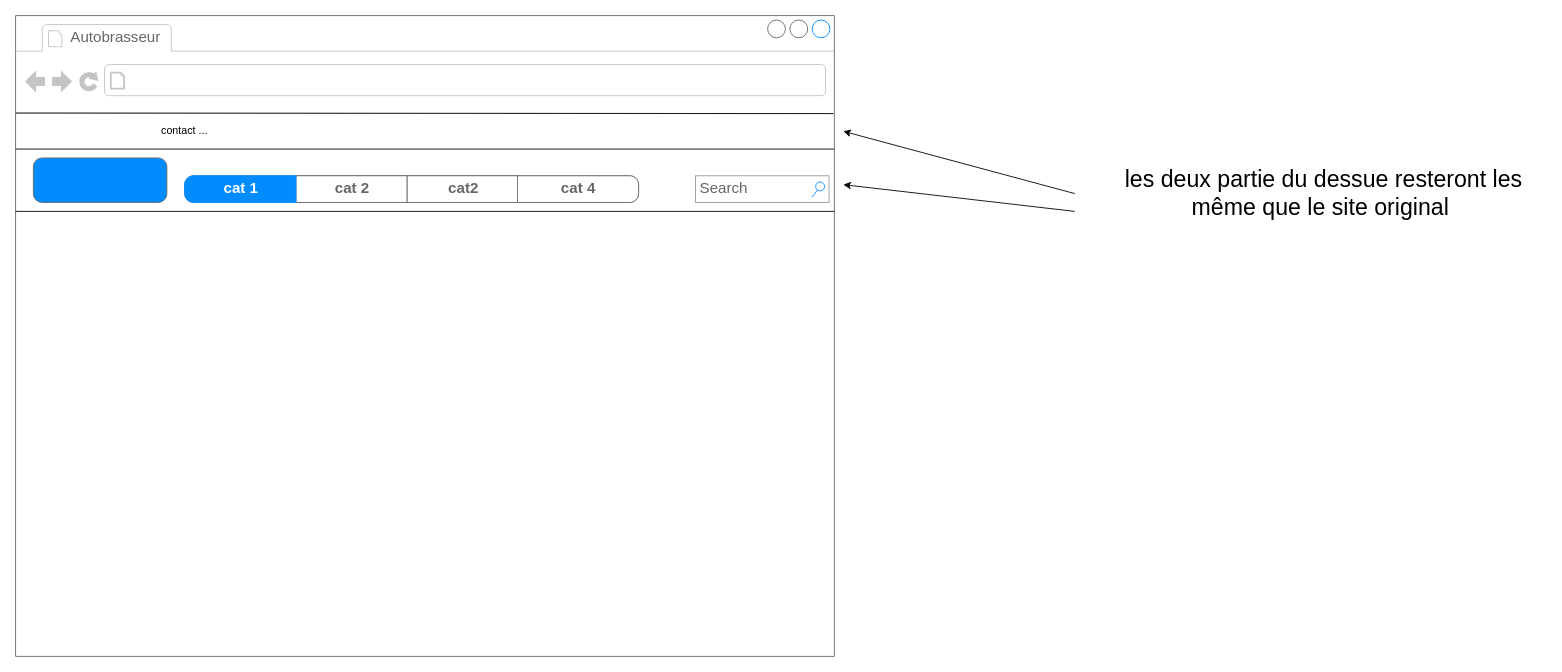
Image size: 1562x672. Some labels were removed from this diagram. The box of each missing label's shape, as (x1, y1, x2, y2) in pixels:
https://www.Autobrasseur.io: (130, 68, 354, 92)
logo: (32, 157, 167, 202)
